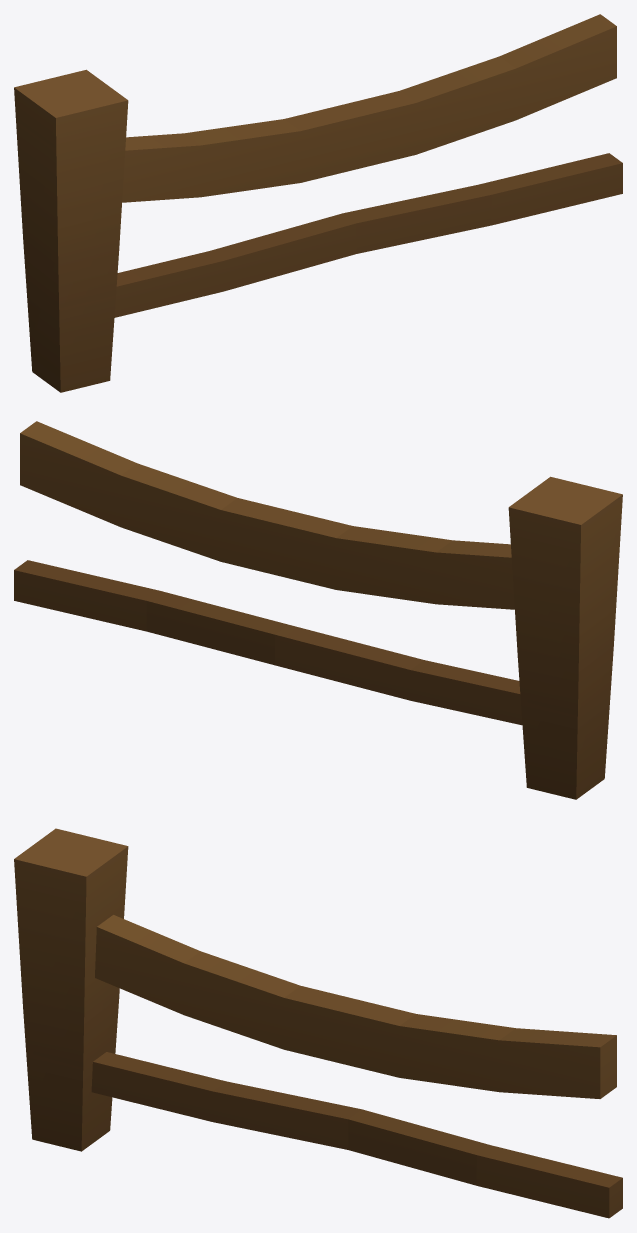
File: Fence_02.fbx
The picture shows the model from 3 angles, top to bottom: view 1: azimuth 30°, elevation 25°; view 2: azimuth 150°, elevation 25°; view 3: azimuth 330°, elevation 25°; orthographic projection.
Parts seen in each view (by area): view 1: Fence_02; view 2: Fence_02; view 3: Fence_02.
Boxes of the visible parts, left/top/right/bottom form: Fence_02: left=14, top=14, right=622, bottom=392; Fence_02: left=14, top=421, right=622, bottom=799; Fence_02: left=14, top=828, right=622, bottom=1218.
Bounding box in the file's own units: 220 × 102 × 27.39.
